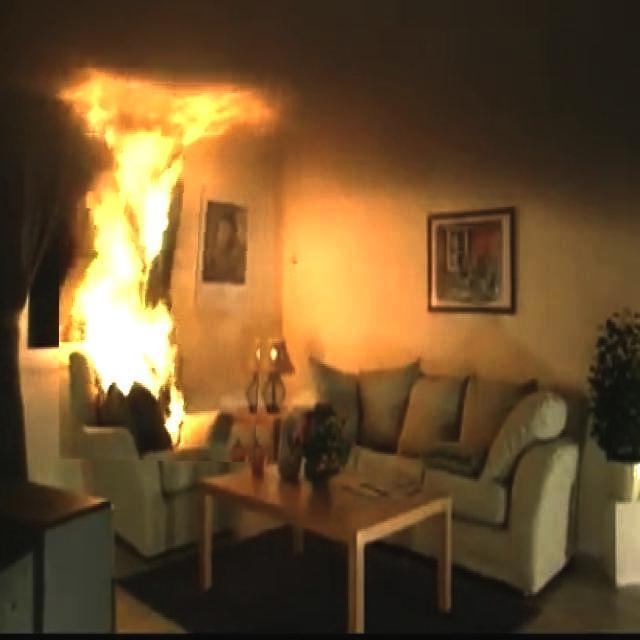smoke: (59, 68, 274, 447)
